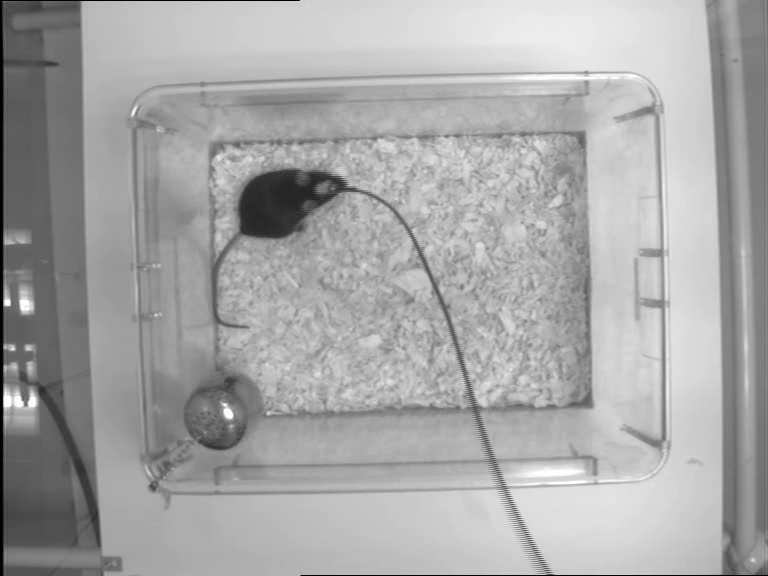mice: (210, 167, 349, 330)
